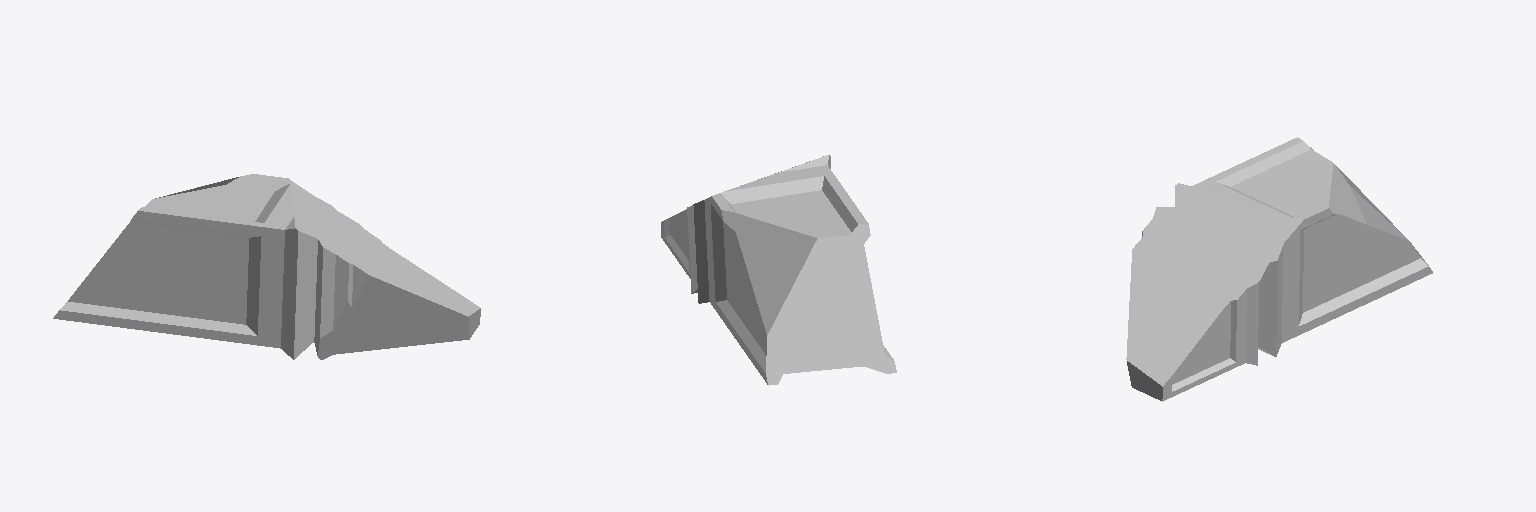
The model's file is BrokenBlock3.obj.
3 renders of one model, left to right at view 1: azimuth 30°, elevation 25°; view 2: azimuth 150°, elevation 25°; view 3: azimuth 270°, elevation 25°, orthographic.
Parts seen in each view (by area): view 1: BrokenBlock3; view 2: BrokenBlock3; view 3: BrokenBlock3.
Part boxes in pixels (x1,y1,x2,y2): BrokenBlock3: (53,174,480,359); BrokenBlock3: (661,154,896,385); BrokenBlock3: (1126,137,1432,401).
Size of the model in its own units: 11.81 by 4.58 by 9.46.